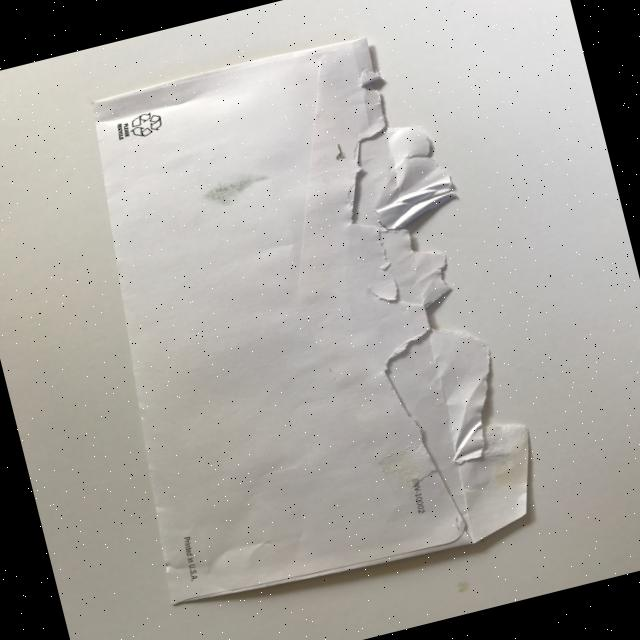paper: (48, 16, 550, 618)
